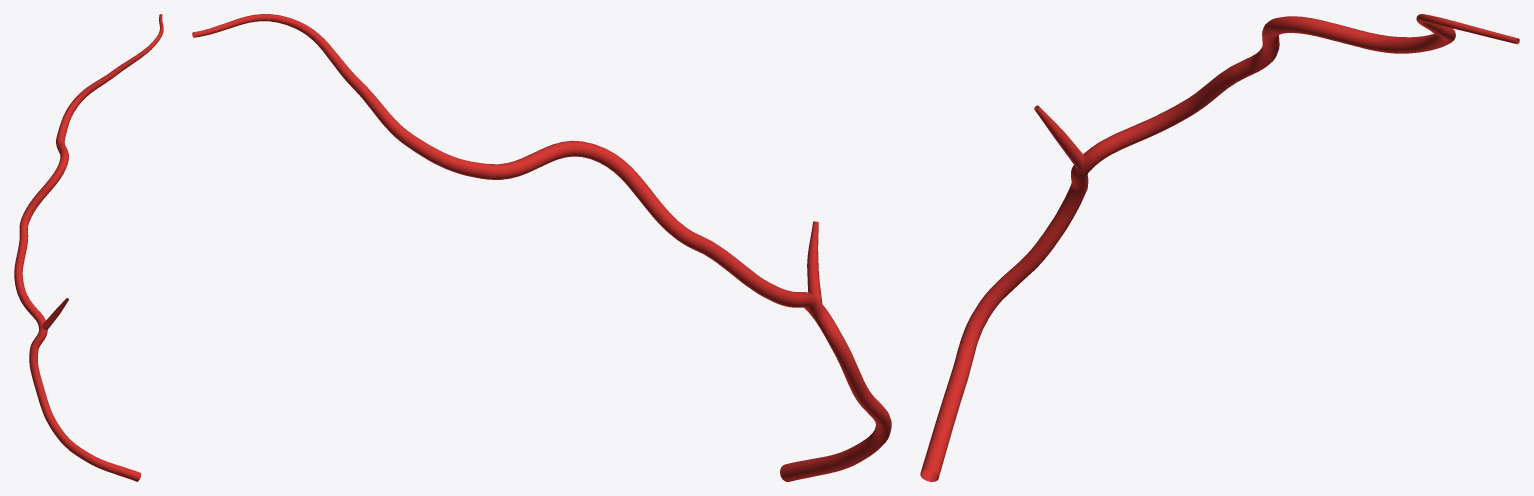
File: circulatorio-postcentral-arterial-branch-r.glb
3 renders of one model, left to right at view 1: azimuth 30°, elevation 25°; view 2: azimuth 150°, elevation 25°; view 3: azimuth 270°, elevation 25°, orthographic. The views are drawn at different scales.
Visible parts, largest first — view 1: Postcentral arterial branch.r; view 2: Postcentral arterial branch.r; view 3: Postcentral arterial branch.r.
Boxes of the visible parts, box(x1,y1,x2,y2) form: Postcentral arterial branch.r: box(14, 14, 163, 481); Postcentral arterial branch.r: box(192, 14, 891, 481); Postcentral arterial branch.r: box(920, 14, 1519, 481).
Bounding box in the file's own units: 0.0461 × 0.0558 × 0.0495.
